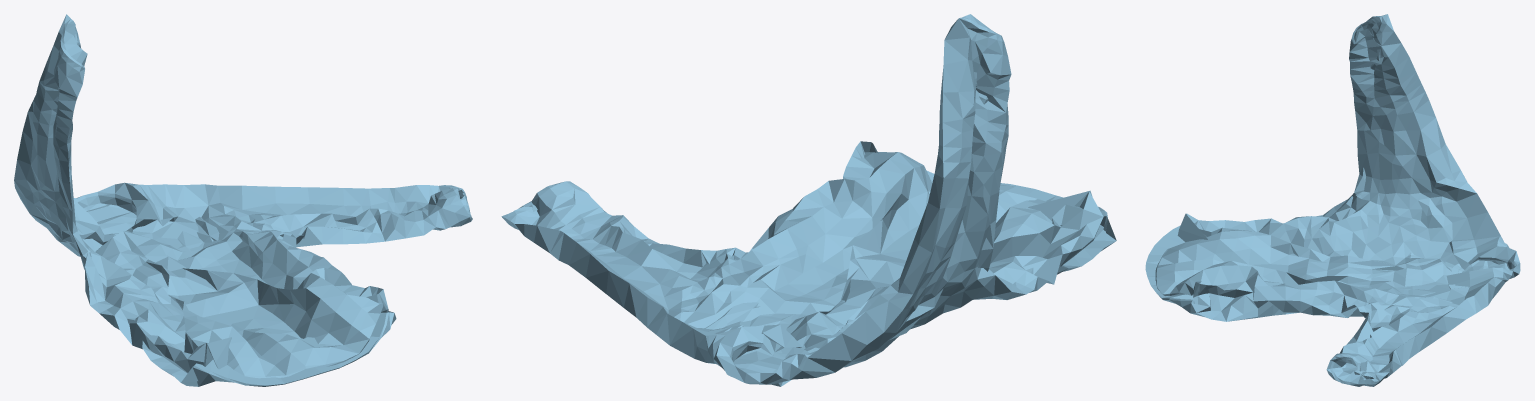
File: frame_11.glb
3 views of the same model, side by side, from view 1: azimuth 30°, elevation 25°; view 2: azimuth 150°, elevation 25°; view 3: azimuth 270°, elevation 25° (orthographic). The views are drawn at different scales.
Parts seen in each view (by area): view 1: frame_11.obj; view 2: frame_11.obj; view 3: frame_11.obj.
Boxes of the visible parts, bbox=[...] form: frame_11.obj: bbox=[14, 14, 472, 386]; frame_11.obj: bbox=[501, 14, 1116, 386]; frame_11.obj: bbox=[1145, 14, 1520, 386].
Size of the model in its own units: 1.43 by 0.962 by 1.39.
